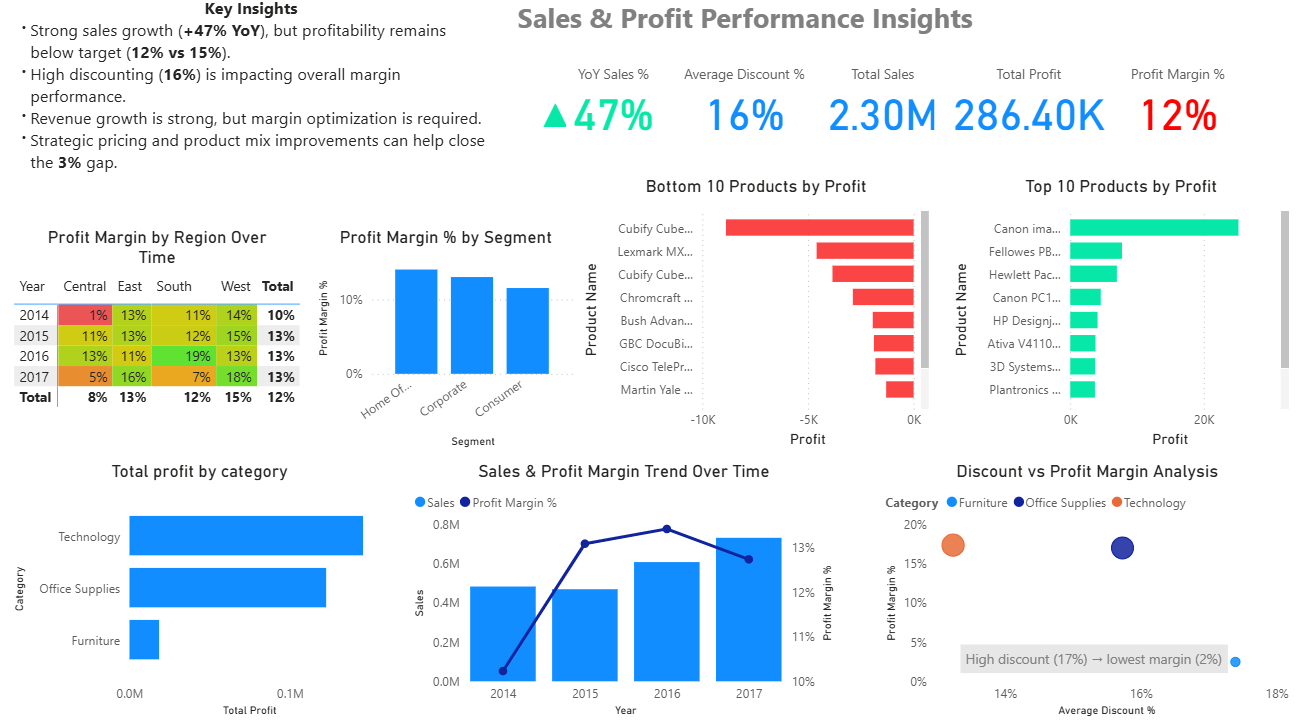

The page's visual inventory and layout, read from the dashboard file:
{"tool":"powerbi","page":{"name":"Page 1","canvas":[1280,720],"ordinal":0},"visuals":[{"type":"lineClusteredColumnComboChart","title":"Sales & Profit Margin Trend Over Time","fields":{"Y":["Sum(Orders.Sales)"],"Y2":["Orders.Profit Margin"],"Category":["DimDate.Year"]},"box":[401.9,463.8,420.2,255.8],"z":0},{"type":"clusteredBarChart","title":"Top 10 Products by Profit","fields":{"Category":["Orders.Product Name"],"Y":["Sum(Orders.Profit)"]},"box":[928.9,184.1,338.7,271.2],"z":1000},{"type":"clusteredBarChart","title":"Bottom 10 Products by Profit","fields":{"Category":["Orders.Product Name"],"Y":["Sum(Orders.Profit)"]},"box":[567.8,184.1,348.5,271.2],"z":2000},{"type":"clusteredBarChart","title":"Total profit by category","fields":{"Category":["Orders.Category"],"Y":["Orders.Total Profit"]},"box":[11.2,463.8,372.4,255.8],"z":3000},{"type":"scatterChart","title":"Discount vs Profit Margin Analysis","fields":{"Y":["Orders.Profit Margin"],"Size":["Orders.Profit Margin"],"Series":["Orders.Category"],"X":["Orders.Average Discount %"]},"box":[862.9,463.8,404.7,255.8],"z":4000},{"type":"textbox","box":[469.4,5.6,522.8,53.4],"z":5000},{"type":"columnChart","fields":{"Category":["Orders.Segment"],"Y":["Orders.Profit Margin %"]},"box":[307.8,234.7,260,220.6],"z":6000},{"type":"pivotTable","title":"Profit Margin by Region Over Time","fields":{"Values":["Orders.Profit Margin"],"Columns":["Orders.Region"],"Rows":["DimDate.Year"]},"box":[11.2,234.7,289.5,220.6],"z":7000},{"type":"cardVisual","fields":{"Data":["Orders.Average Discount %"]},"box":[647.9,59,164.4,89.9],"z":8000},{"type":"cardVisual","fields":{"Data":["Orders.Total Sales"]},"box":[789.8,59,151.8,89.9],"z":9000},{"type":"cardVisual","fields":{"Data":["Orders.Total Profit"]},"box":[916.3,59,185.5,89.9],"z":10000},{"type":"cardVisual","fields":{"Data":["Orders.Profit Margin %"]},"box":[1089.2,59,129.3,89.9],"z":11000},{"type":"cardVisual","fields":{"Data":["Orders.YoY Sales %"]},"box":[542.5,59,118.1,89.9],"z":12000},{"type":"cardVisual","fields":{"Data":["Orders.YoY Arrow"]},"box":[520,89.9,42.2,63.2],"z":13000},{"type":"textbox","box":[8.4,4.2,477.8,210.8],"z":14000},{"type":"textbox","box":[941.6,643.7,261.4,28.1],"z":15000}]}

Visuals, with their boxes in screenshot pixels (x1, y1, x2, y2), scaled from the page's 1280x720 canvas onto the 1302x721 screenshot:
"Sales & Profit Margin Trend Over Time" lineClusteredColumnComboChart: [x1=409, y1=464, x2=836, y2=720]
"Top 10 Products by Profit" clusteredBarChart: [x1=945, y1=184, x2=1289, y2=456]
"Bottom 10 Products by Profit" clusteredBarChart: [x1=578, y1=184, x2=932, y2=456]
"Total profit by category" clusteredBarChart: [x1=11, y1=464, x2=390, y2=720]
"Discount vs Profit Margin Analysis" scatterChart: [x1=878, y1=464, x2=1289, y2=720]
textbox: [x1=477, y1=6, x2=1009, y2=59]
columnChart - Orders.Segment x Orders.Profit Margin %: [x1=313, y1=235, x2=578, y2=456]
"Profit Margin by Region Over Time" pivotTable: [x1=11, y1=235, x2=306, y2=456]
cardVisual - Orders.Average Discount %: [x1=659, y1=59, x2=826, y2=149]
cardVisual - Orders.Total Sales: [x1=803, y1=59, x2=958, y2=149]
cardVisual - Orders.Total Profit: [x1=932, y1=59, x2=1121, y2=149]
cardVisual - Orders.Profit Margin %: [x1=1108, y1=59, x2=1239, y2=149]
cardVisual - Orders.YoY Sales %: [x1=552, y1=59, x2=672, y2=149]
cardVisual - Orders.YoY Arrow: [x1=529, y1=90, x2=572, y2=153]
textbox: [x1=9, y1=4, x2=495, y2=215]
textbox: [x1=958, y1=645, x2=1224, y2=673]
